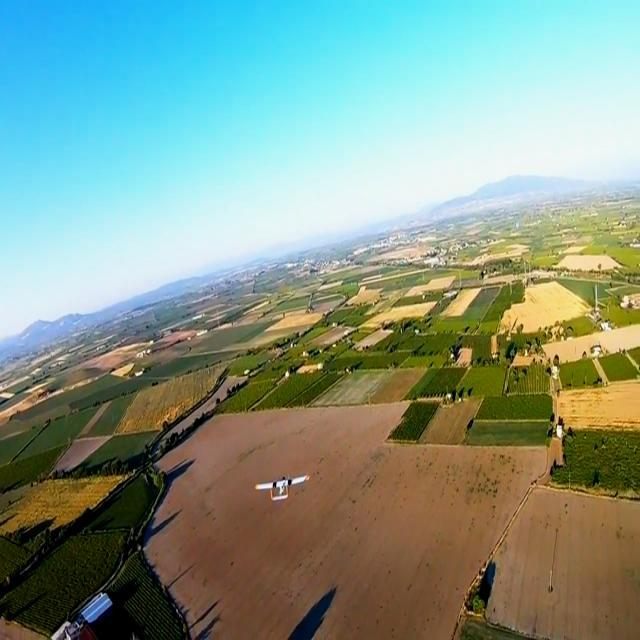iha: (253, 474, 312, 503)
